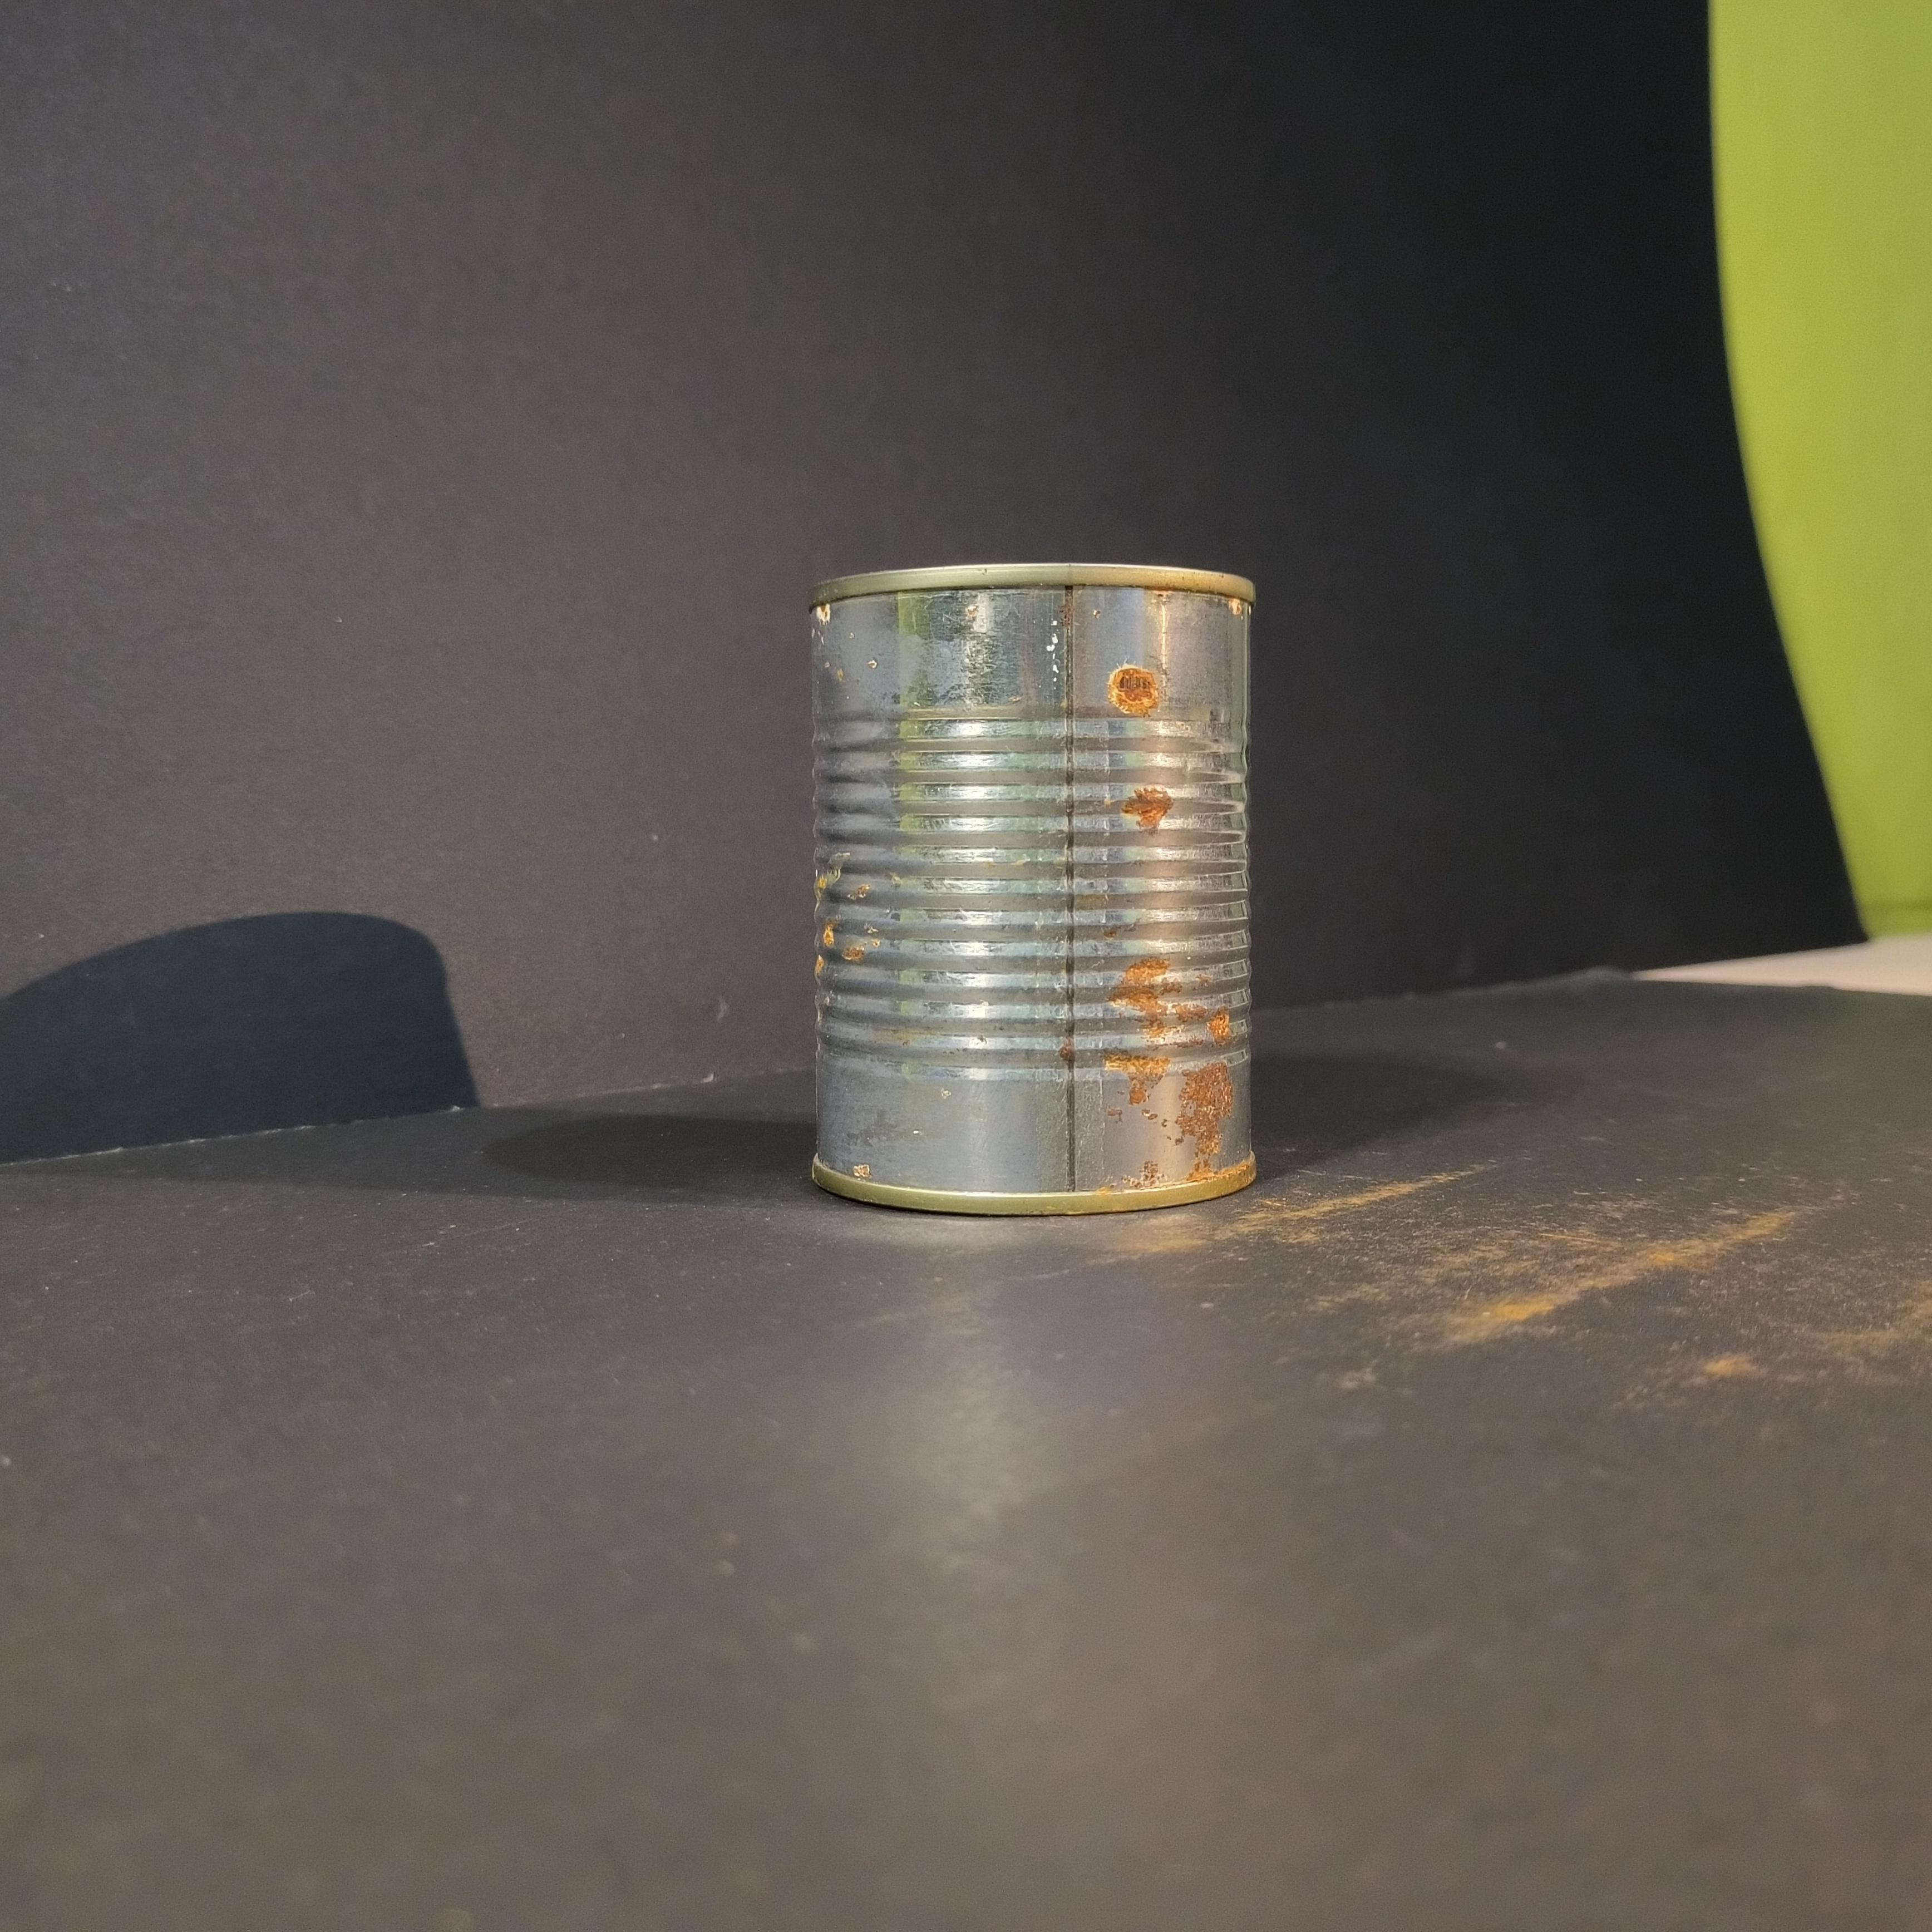Rusted: (787, 548, 1288, 1238)
